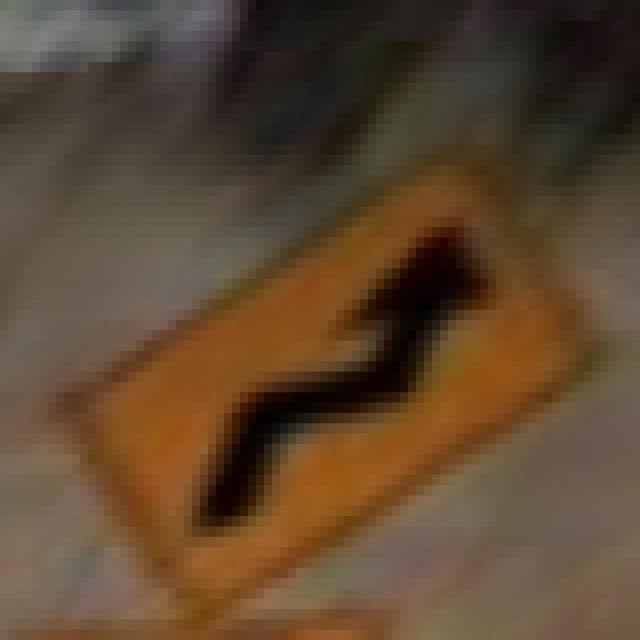Tikungan Ganda Pertama Ke Kanan: (48, 124, 600, 619)
